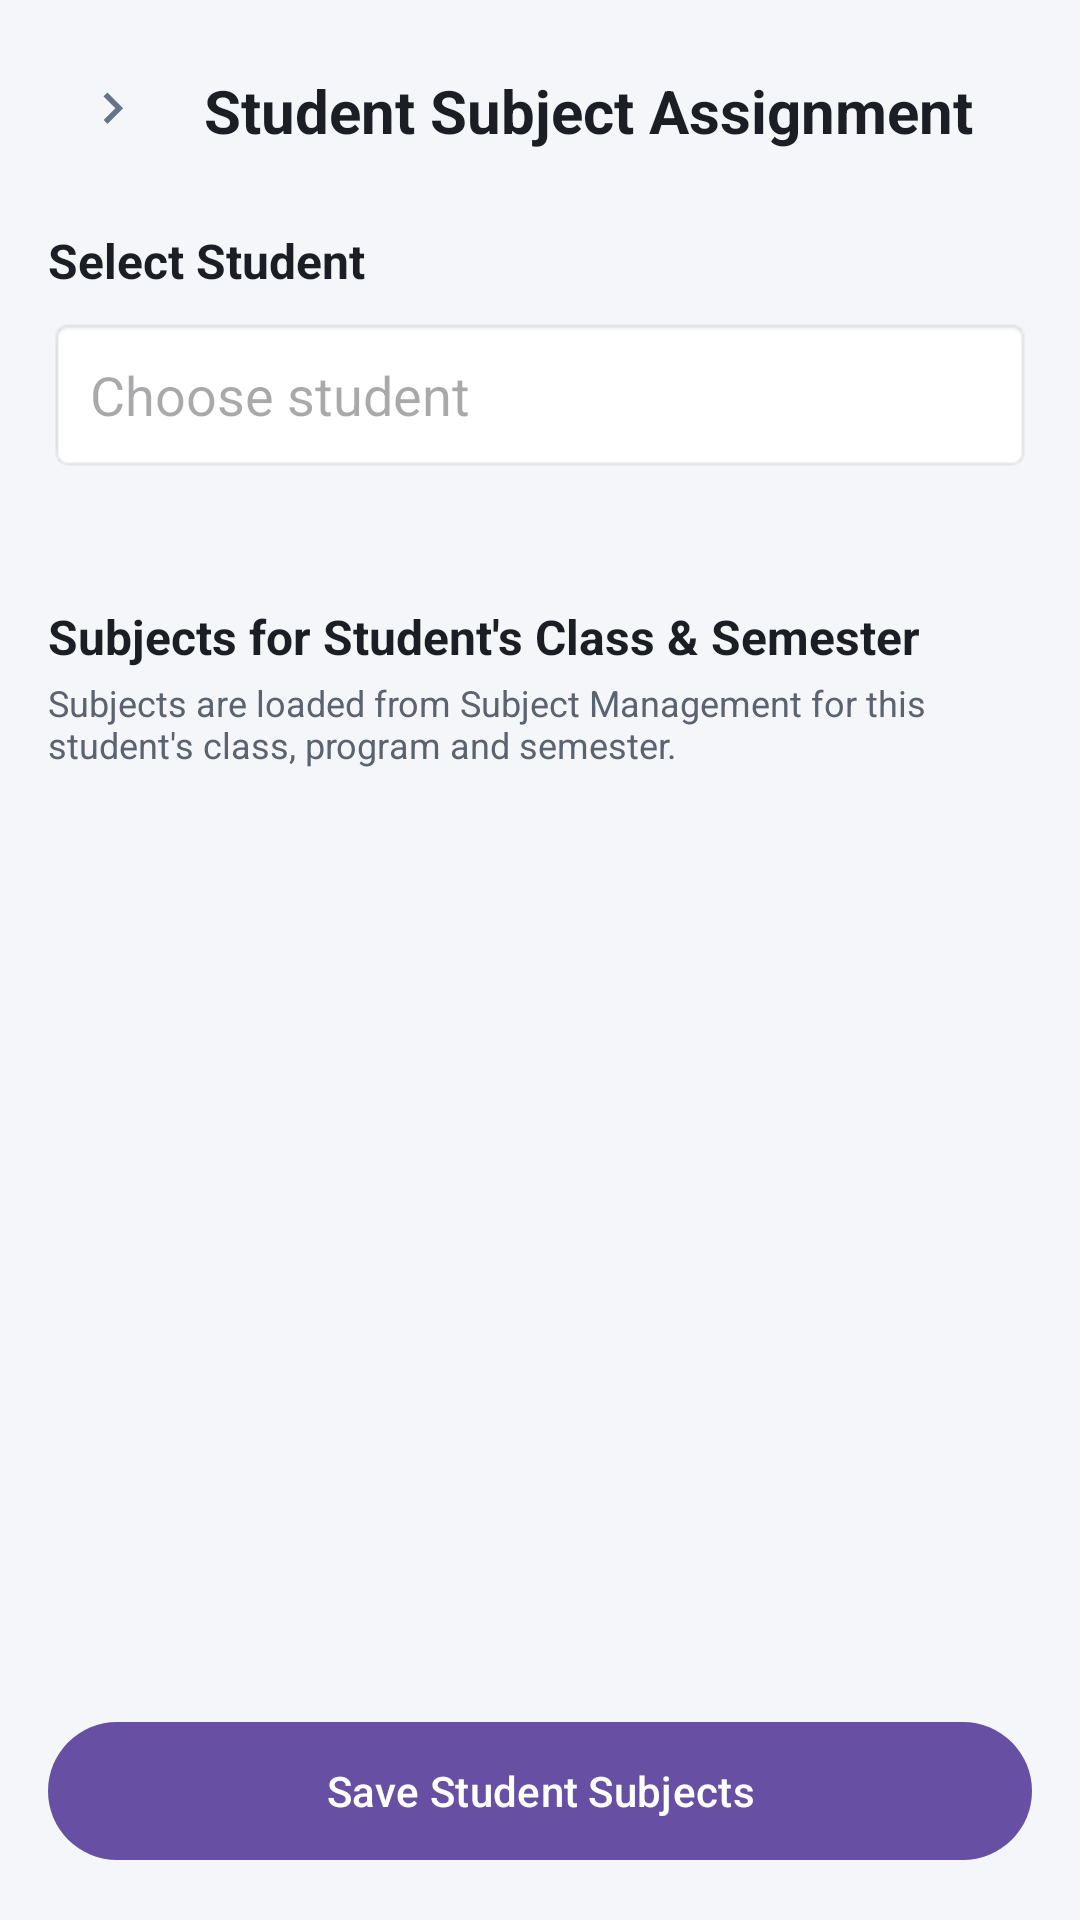

Point at icon controls on the screen. Image size 1080px×1920px, points as (x,y).
arrow: (113,108)
